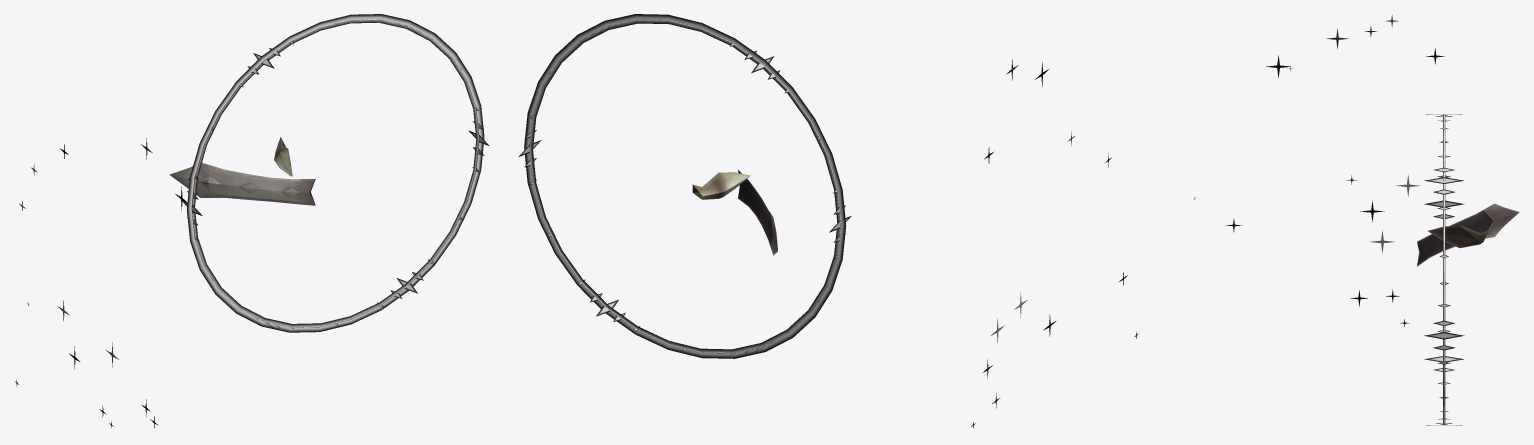
3 views of the same model, side by side, from view 1: azimuth 30°, elevation 25°; view 2: azimuth 150°, elevation 25°; view 3: azimuth 270°, elevation 25° (orthographic). The views are drawn at different scales.
Visible parts, largest first — view 1: B_0156_3a_1, B_0156_3a_0; view 2: B_0156_3a_1, B_0156_3a_0; view 3: B_0156_3a_1, B_0156_3a_0.
Part boxes in pixels (x1=…): B_0156_3a_1: x1=15, y1=14, x2=489, y2=428; B_0156_3a_0: x1=169, y1=137, x2=315, y2=205; B_0156_3a_1: x1=519, y1=14, x2=1195, y2=428; B_0156_3a_0: x1=692, y1=170, x2=777, y2=255; B_0156_3a_1: x1=1225, y1=15, x2=1464, y2=425; B_0156_3a_0: x1=1417, y1=203, x2=1519, y2=266.
Bounding box in the file's own units: 9.44 × 5.64 × 4.76.
